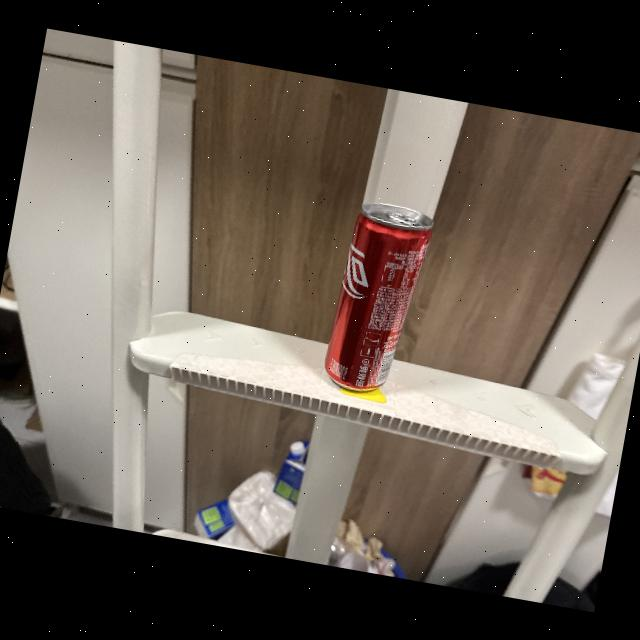Cola: (308, 190, 442, 404)
